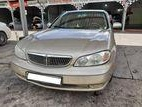car: (11, 9, 122, 92)
